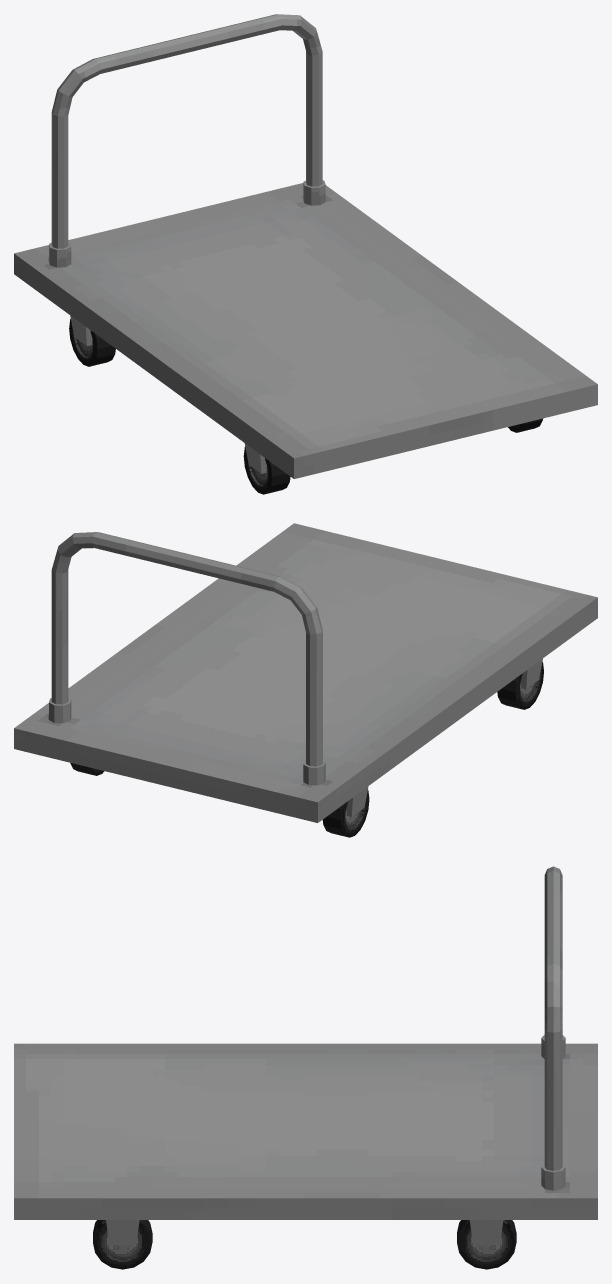
Rendered from push_cart_dolly.fbx.
The picture shows the model from 3 angles, top to bottom: view 1: azimuth 30°, elevation 25°; view 2: azimuth 150°, elevation 25°; view 3: azimuth 270°, elevation 25°; orthographic projection. The views are drawn at different scales.
Parts seen in each view (by area): view 1: dolly; view 2: dolly; view 3: dolly.
Boxes of the visible parts, x1,y1,x2,y2 form: dolly: [14, 14, 597, 494]; dolly: [14, 523, 597, 837]; dolly: [14, 866, 597, 1269].
Bounding box in the file's own units: 173 × 147 × 276.
